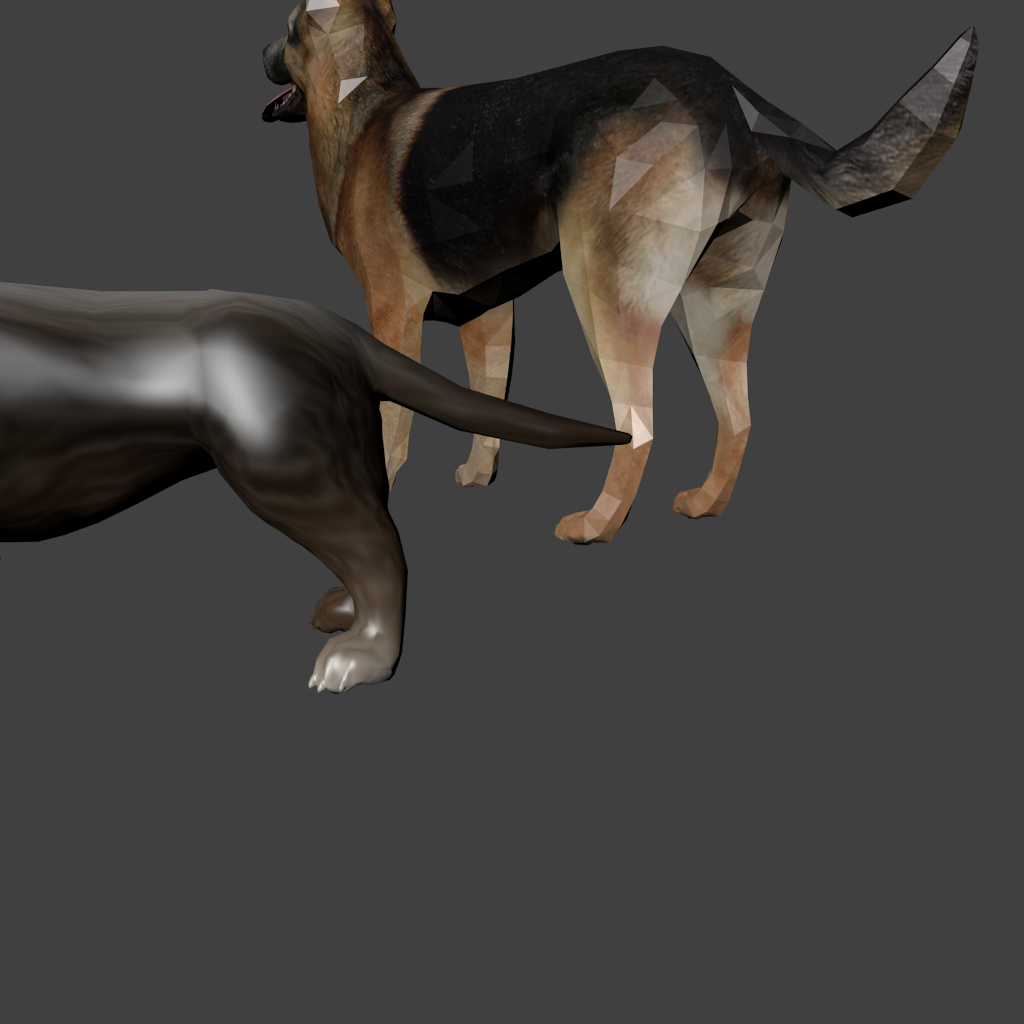Dog: (262, 0, 718, 545), (0, 269, 633, 466)
